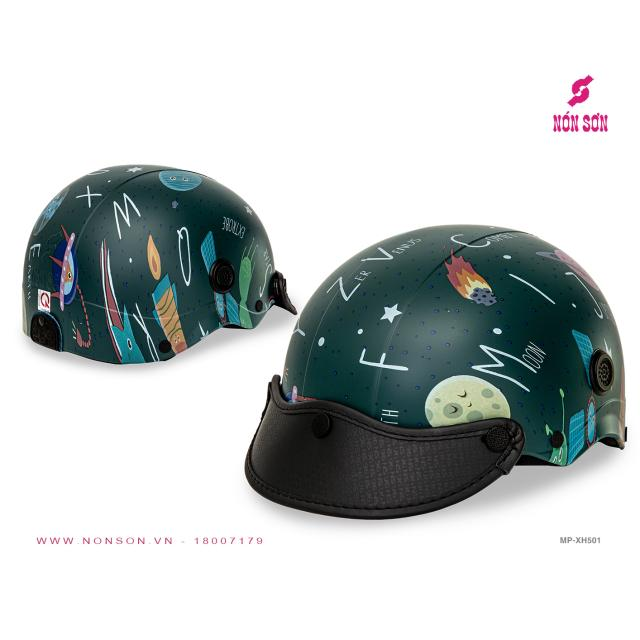Helmet: (244, 221, 628, 521), (23, 156, 295, 372)
